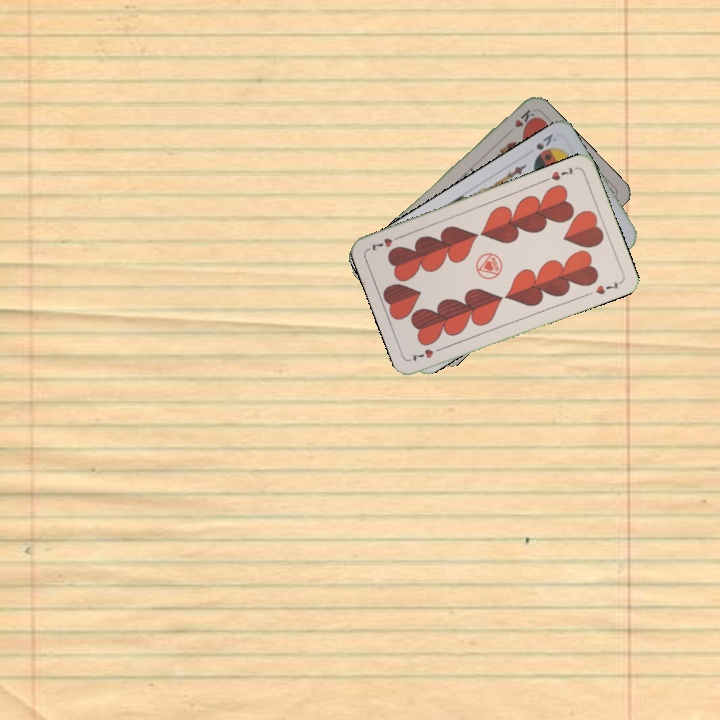H7: (407, 343, 446, 364), (540, 163, 576, 184)
HK: (511, 105, 536, 130)
SK: (532, 129, 559, 152)
